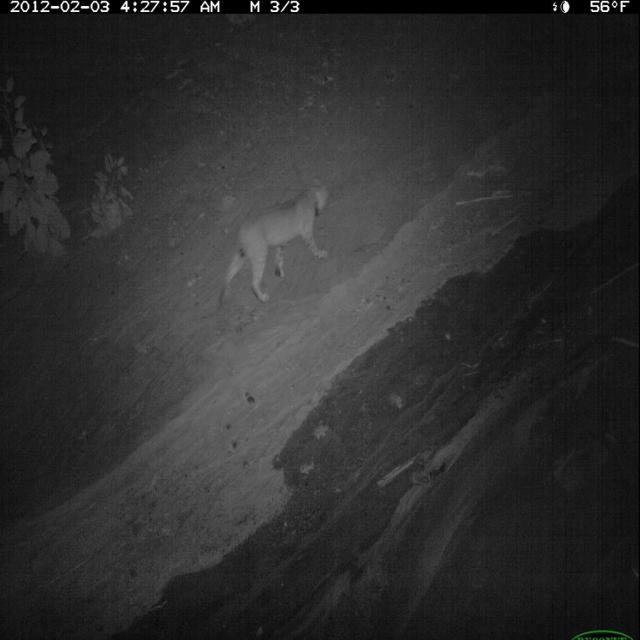bobcat: (215, 171, 335, 316)
